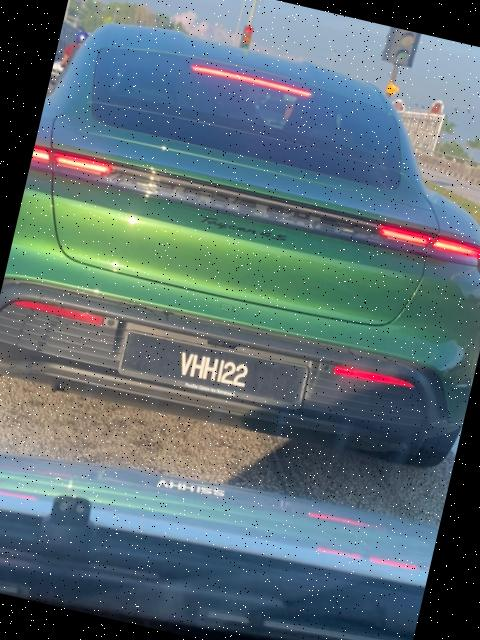License_Plate: (123, 332, 296, 405)
car: (1, 6, 480, 480)
